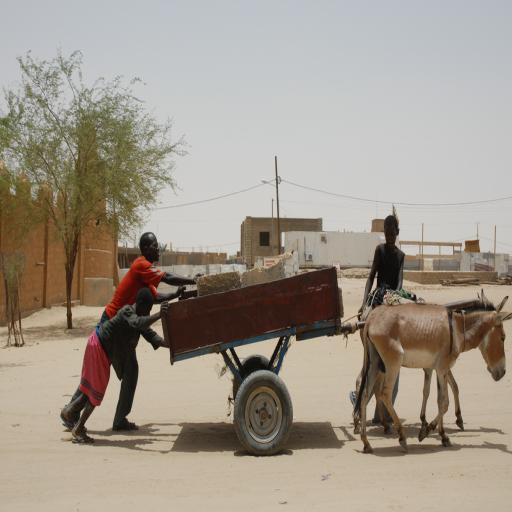horse: (356, 308, 512, 456), (357, 290, 510, 428)
